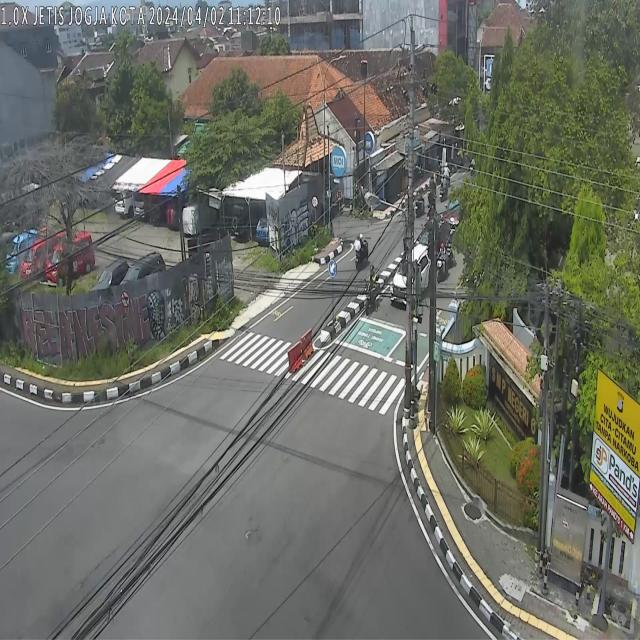car: (390, 244, 429, 304)
motorcycle: (363, 266, 381, 315), (353, 231, 369, 270), (444, 225, 457, 268), (436, 240, 449, 282), (414, 187, 425, 216), (428, 173, 436, 205)
